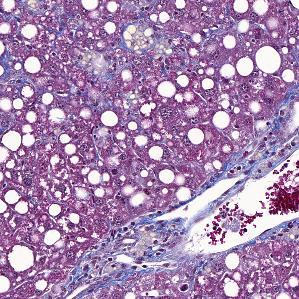fibrosis: (80, 222, 191, 281)
